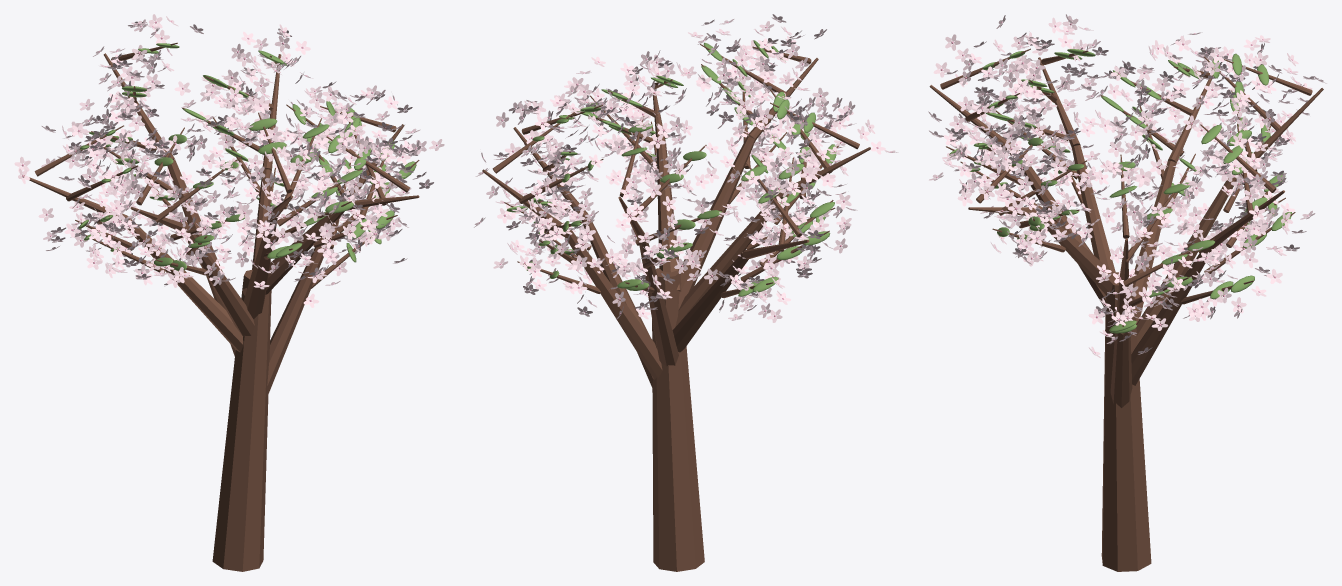
Rendered from cherry-blossom-1.glb.
3 views of the same model, side by side, from view 1: azimuth 30°, elevation 25°; view 2: azimuth 150°, elevation 25°; view 3: azimuth 270°, elevation 25° (orthographic). The views are drawn at different scales.
Visible parts, largest first — view 1: Geometry Nodes blossom canopy, Branch, Cherry leaf; view 2: Geometry Nodes blossom canopy, Branch, Cherry leaf; view 3: Geometry Nodes blossom canopy, Branch, Cherry leaf.
Part boxes in pixels (x1,y1,x2,y2): Geometry Nodes blossom canopy: (14,14,444,307); Branch: (22,42,419,571); Cherry leaf: (79,43,416,270); Geometry Nodes blossom canopy: (474,14,898,322); Branch: (482,44,870,571); Cherry leaf: (506,40,836,296); Geometry Nodes blossom canopy: (928,14,1326,357); Branch: (929,48,1323,571); Cherry leaf: (949,49,1291,333).
Bounding box in the file's own units: 3.06 × 4.18 × 2.88.
